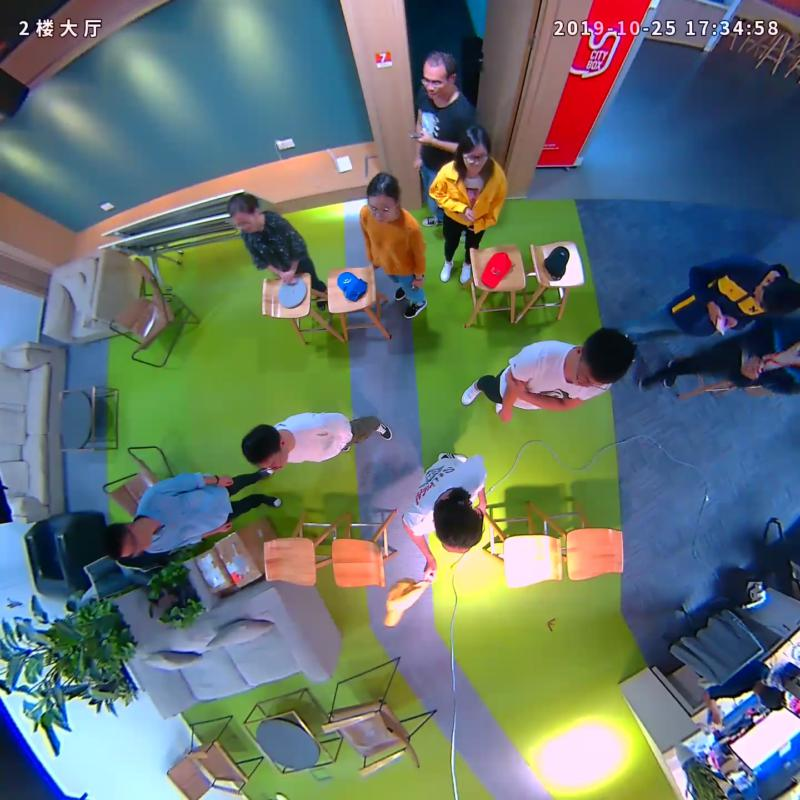head: (565, 325, 640, 393), (427, 493, 490, 556), (234, 420, 293, 475), (413, 46, 463, 102), (452, 124, 498, 184), (359, 170, 406, 228), (98, 519, 148, 564), (221, 190, 265, 238)
